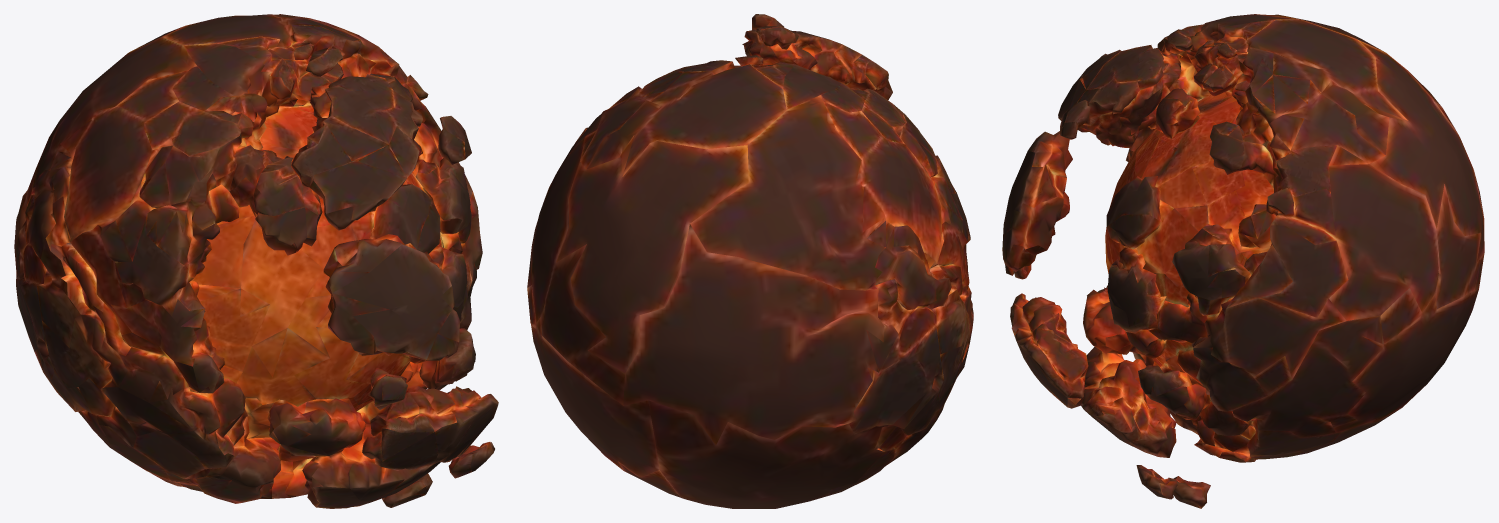
The model's file is patlamis_gezegen_2.glb.
3 views of the same model, side by side, from view 1: azimuth 30°, elevation 25°; view 2: azimuth 150°, elevation 25°; view 3: azimuth 270°, elevation 25° (orthographic). The views are drawn at different scales.
Bounding box in the file's own units: 1.71 × 1.89 × 1.89.
Materials: 1 (1 with a texture image).
